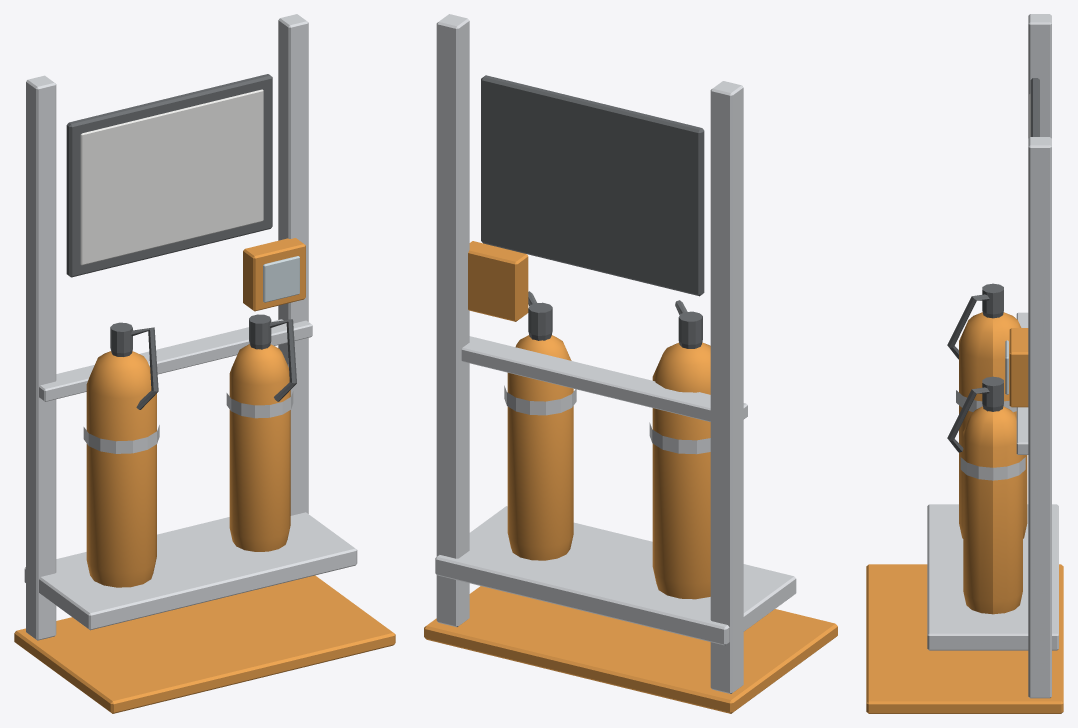
The picture shows the model from 3 angles, left to right: view 1: azimuth 30°, elevation 25°; view 2: azimuth 150°, elevation 25°; view 3: azimuth 270°, elevation 25°; orthographic projection. The views are drawn at different scales.
Visible parts, largest first — view 1: fire-point-station; view 2: fire-point-station; view 3: fire-point-station.
Boxes of the visible parts, x1,y1,x2,y2 form: fire-point-station: (14, 14, 395, 713); fire-point-station: (424, 14, 837, 713); fire-point-station: (866, 14, 1063, 713).
Bounding box in the file's own units: 0.7 × 1.33 × 0.42.
